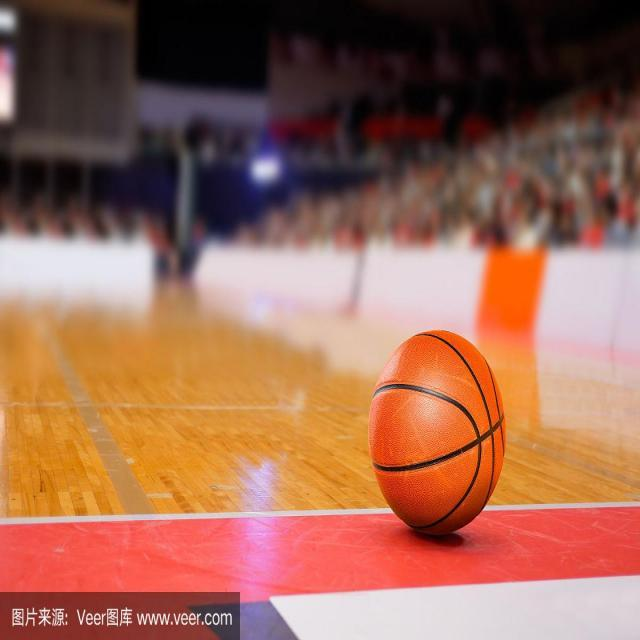rim: (368, 326, 508, 538)
